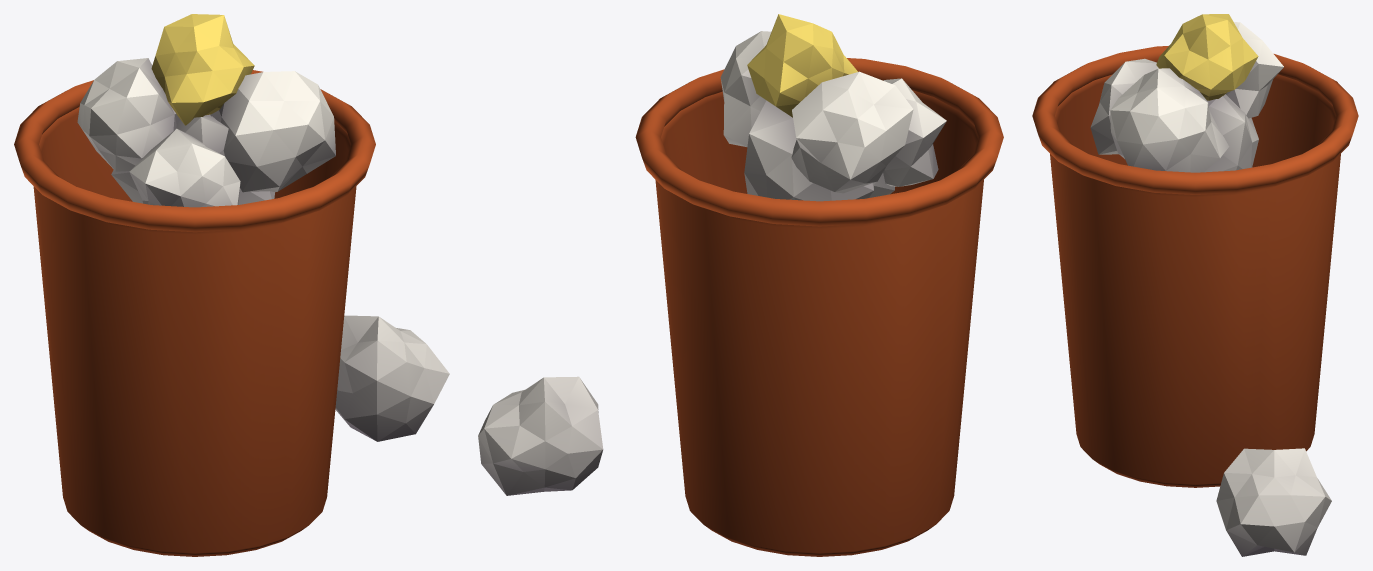
The model's file is trash_can__059.glb.
3 renders of one model, left to right at view 1: azimuth 30°, elevation 25°; view 2: azimuth 150°, elevation 25°; view 3: azimuth 270°, elevation 25°, orthographic. The views are drawn at different scales.
Visible parts, largest first — view 1: merged_toon_ffffff, merged_toon_ffffff_1; view 2: merged_toon_ffffff, merged_toon_ffffff_1; view 3: merged_toon_ffffff, merged_toon_ffffff_1.
Part boxes in pixels (x1,y1,x2,y2): merged_toon_ffffff: (14,70,375,556); merged_toon_ffffff_1: (77,14,449,441); merged_toon_ffffff: (635,58,1003,556); merged_toon_ffffff_1: (478,14,946,495); merged_toon_ffffff: (1032,46,1358,487); merged_toon_ffffff_1: (1090,14,1331,556).
Bounding box in the file's own units: 0.4665 × 0.4929 × 0.3308.
